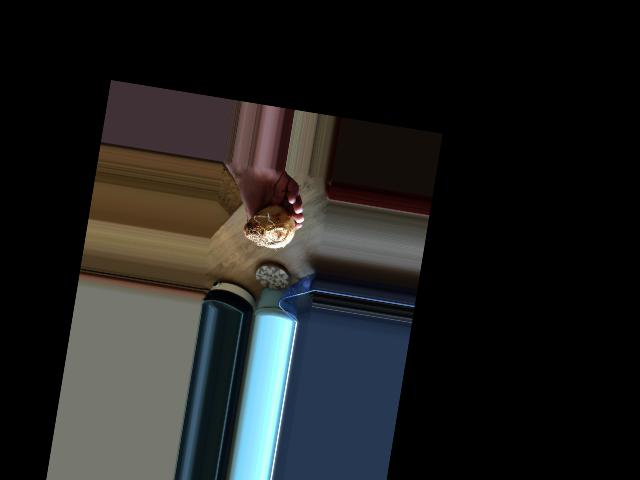onion: (244, 200, 299, 256)
